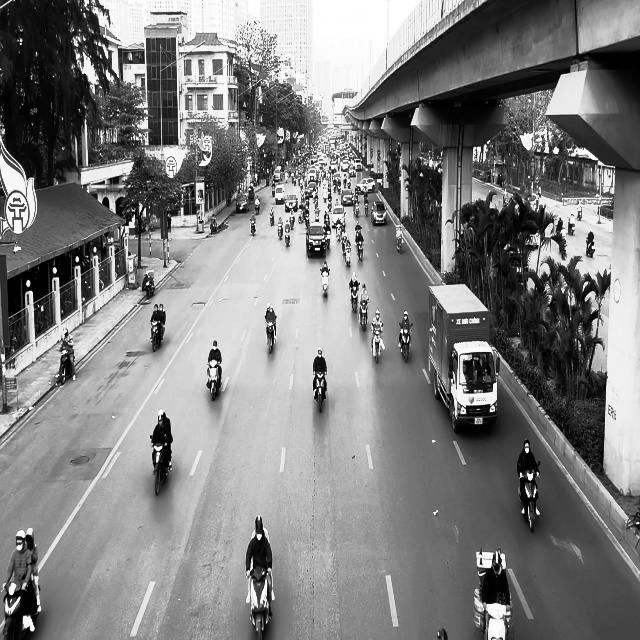car: (306, 222, 326, 258), (371, 201, 386, 225), (331, 205, 346, 228), (235, 193, 249, 212), (284, 193, 298, 212), (341, 188, 354, 205), (274, 184, 285, 204)
motorbike: (248, 565, 272, 639), (518, 461, 540, 532), (150, 435, 172, 495), (58, 346, 76, 384), (206, 359, 221, 401), (312, 370, 326, 412), (398, 322, 412, 362), (371, 324, 384, 363), (150, 321, 164, 352), (265, 319, 276, 354), (358, 299, 369, 330), (142, 270, 154, 298), (320, 267, 330, 297), (349, 284, 358, 312), (344, 239, 351, 266), (356, 237, 363, 260), (396, 232, 403, 254), (586, 238, 594, 257), (284, 223, 290, 246), (250, 216, 256, 236)
truck: (427, 282, 499, 433)
